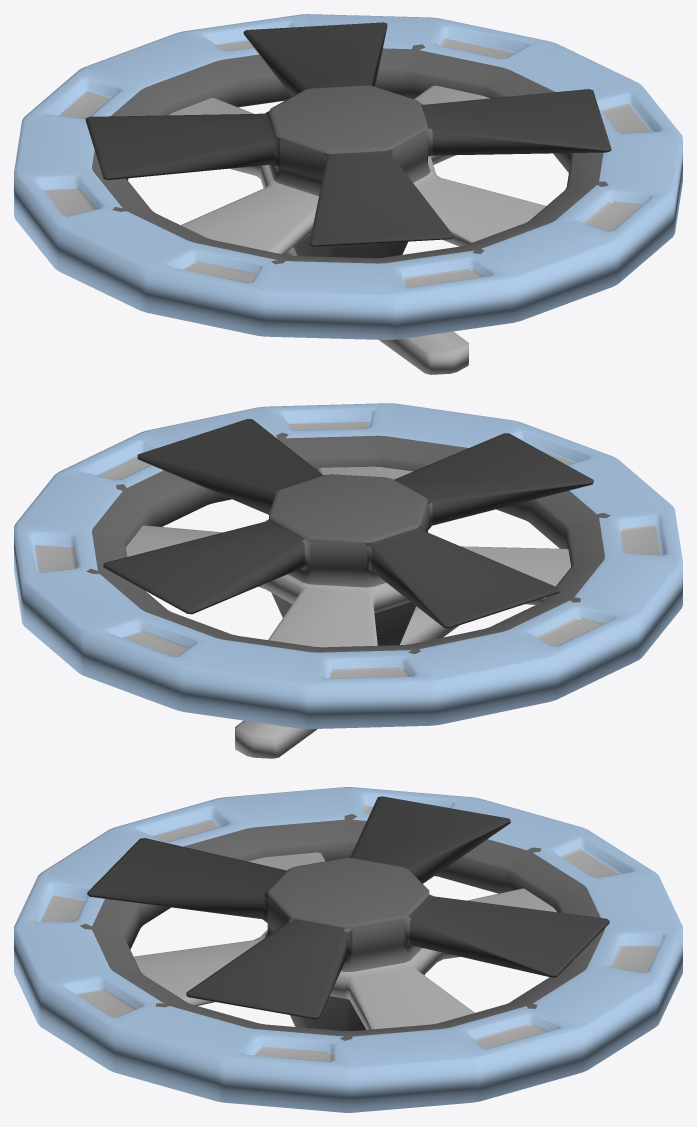
File: mechanicalparts.fbx
The picture shows the model from 3 angles, top to bottom: view 1: azimuth 30°, elevation 25°; view 2: azimuth 150°, elevation 25°; view 3: azimuth 270°, elevation 25°; orthographic projection.
Parts seen in each view (by area): view 1: Cylinder; view 2: Cylinder; view 3: Cylinder.
Boxes of the visible parts, <box> form: Cylinder: <box>14,14,682,374</box>; Cylinder: <box>14,403,682,758</box>; Cylinder: <box>14,787,682,1112</box>.
Size of the model in its own units: 200 by 62.83 by 200.
